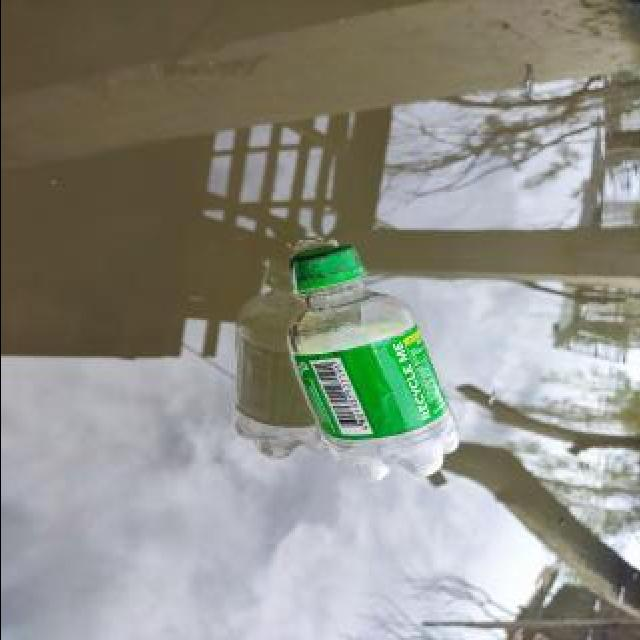Bottle: (266, 230, 484, 490)
